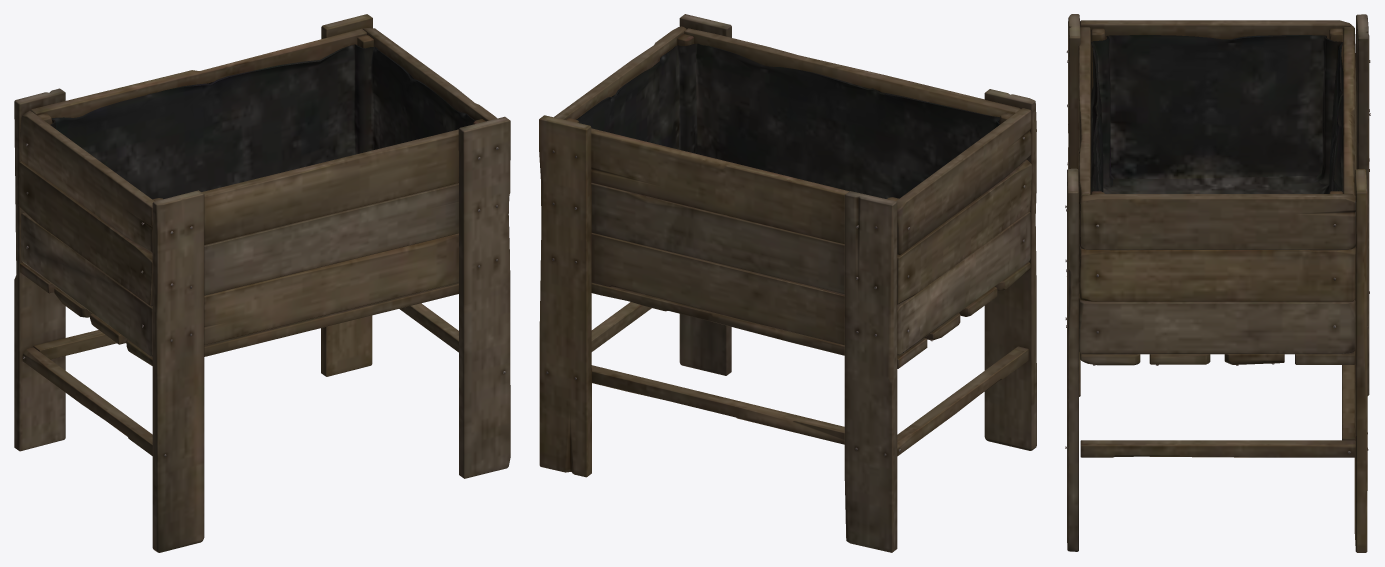
Rendered from planter_box_03.glb.
3 views of the same model, side by side, from view 1: azimuth 30°, elevation 25°; view 2: azimuth 150°, elevation 25°; view 3: azimuth 270°, elevation 25° (orthographic). The views are drawn at different scales.
Parts seen in each view (by area): view 1: planter_box_03; view 2: planter_box_03; view 3: planter_box_03.
Part boxes in pixels (x1,y1,x2,y2): planter_box_03: (14, 14, 510, 552); planter_box_03: (539, 14, 1036, 552); planter_box_03: (1065, 14, 1370, 552).
Bounding box in the file's own units: 0.9143 × 0.8552 × 0.6556.
Materials: 1 (1 with a texture image).
